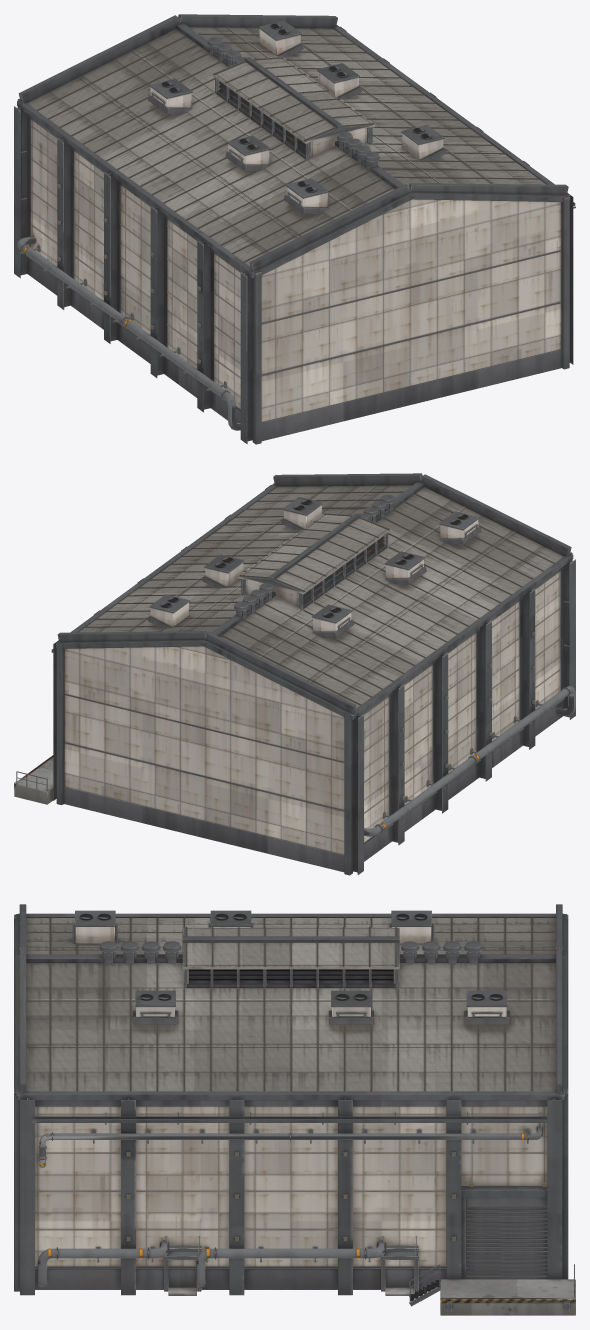
File: shedSegment.glb
3 renders of one model, top to bottom at view 1: azimuth 30°, elevation 25°; view 2: azimuth 150°, elevation 25°; view 3: azimuth 270°, elevation 25°, orthographic. The views are drawn at different scales.
Parts seen in each view (by area): view 1: shedSegment; view 2: shedSegment; view 3: shedSegment.
Part boxes in pixels (box(x1,y1,x2,y2)): shedSegment: box(14, 14, 575, 444); shedSegment: box(14, 473, 575, 875); shedSegment: box(14, 904, 575, 1315).
Size of the model in its own units: 33.43 by 19.68 by 37.3.
Materials: 1 (1 with a texture image).
